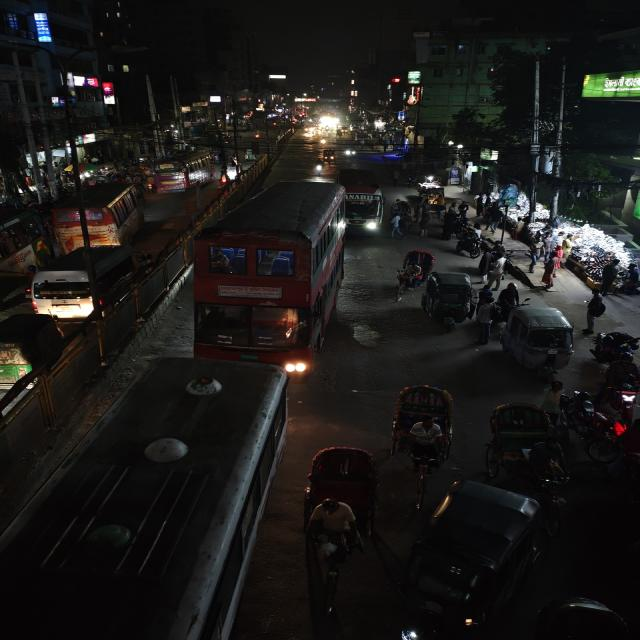bus: (39, 354, 302, 640), (188, 180, 349, 382), (52, 181, 149, 247), (0, 200, 53, 278), (335, 166, 384, 238), (149, 150, 214, 194)
car: (29, 242, 148, 318)
cng: (406, 477, 560, 636), (499, 300, 577, 378), (0, 312, 63, 390), (419, 269, 475, 331), (0, 273, 35, 324), (322, 148, 339, 164)
motorcycle: (562, 388, 628, 448), (602, 352, 640, 412), (311, 158, 327, 176)
pedestrian: (471, 284, 498, 344), (480, 245, 507, 291), (582, 290, 608, 330), (499, 280, 522, 314), (387, 214, 408, 240), (416, 209, 432, 237)
rickshaw: (300, 444, 386, 567), (384, 381, 463, 491), (482, 398, 569, 492), (388, 248, 434, 302)
